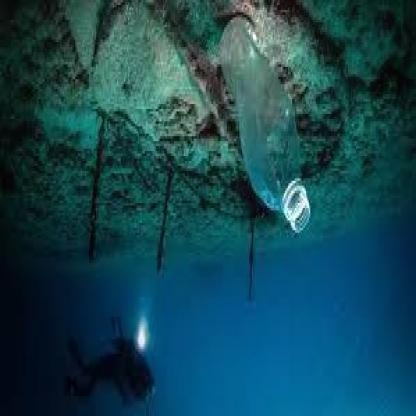pbottle: (212, 10, 317, 250)
